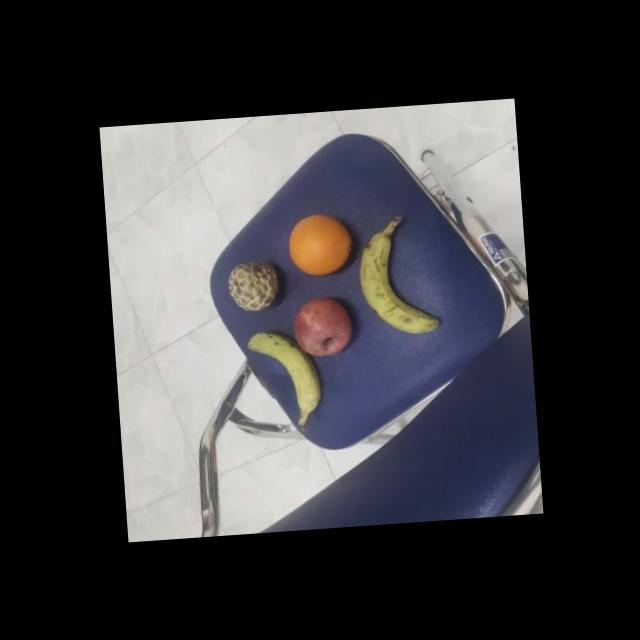Sakya fruit: (222, 258, 280, 315)
apple: (289, 292, 355, 361)
banana: (352, 219, 443, 339), (242, 323, 322, 419)
orange: (283, 210, 353, 278)
